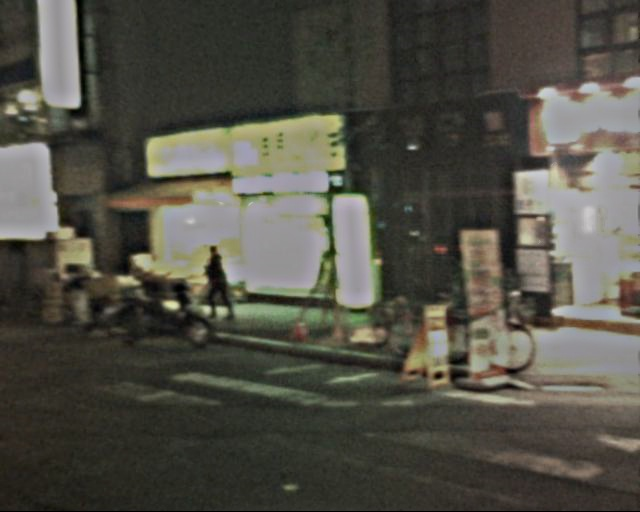person: (183, 242, 233, 323)
